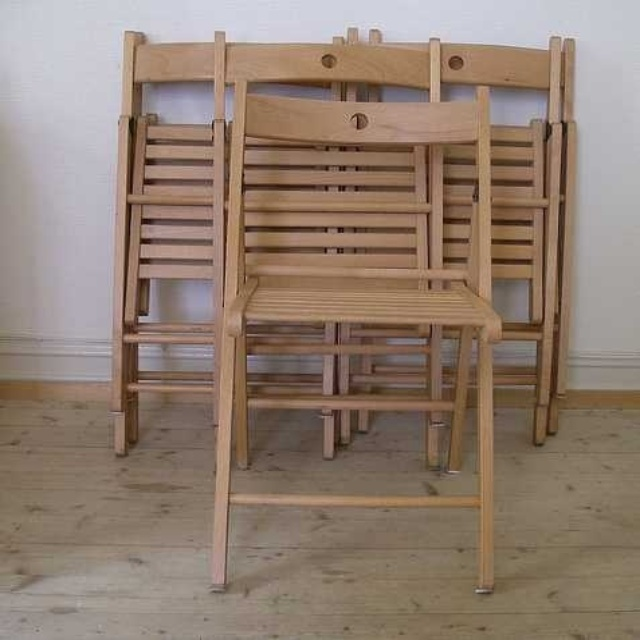obstacle: (111, 32, 573, 591)
